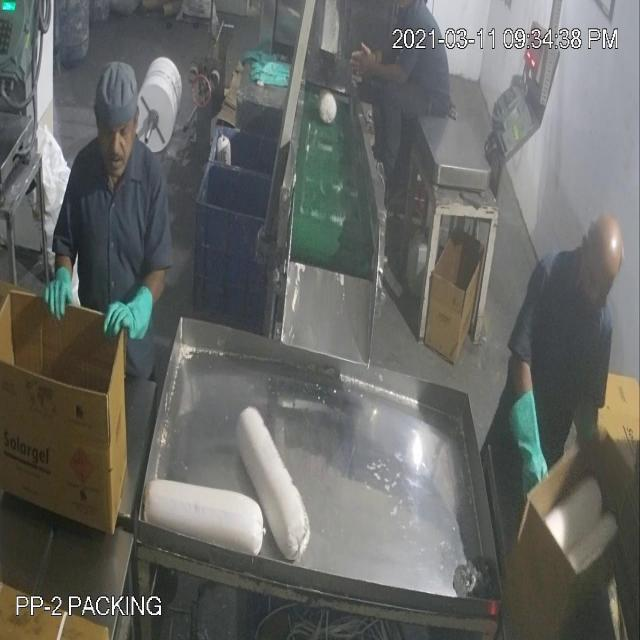No_Gloves: (38, 60, 532, 444)
